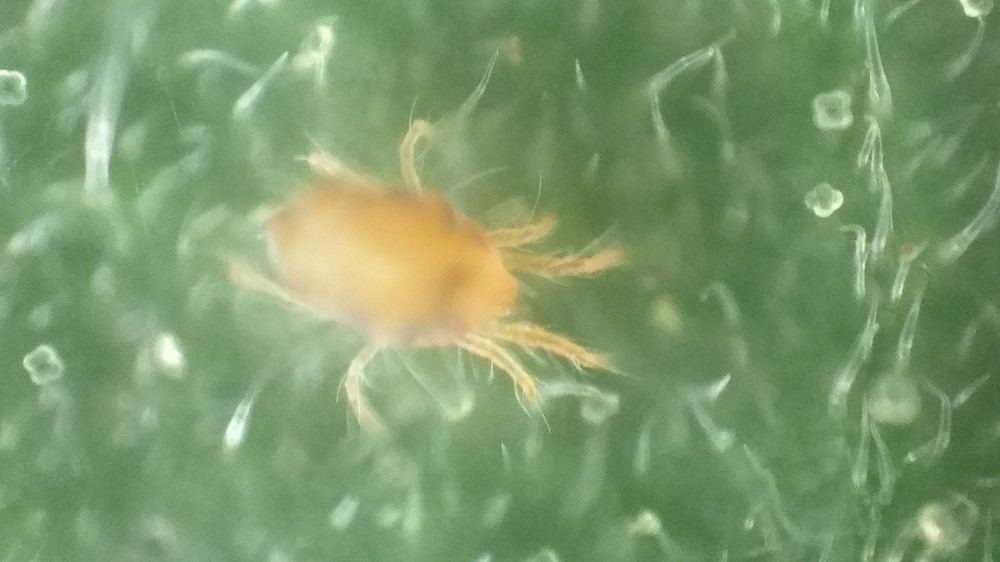Aracnido Rojo: (223, 117, 671, 448)
